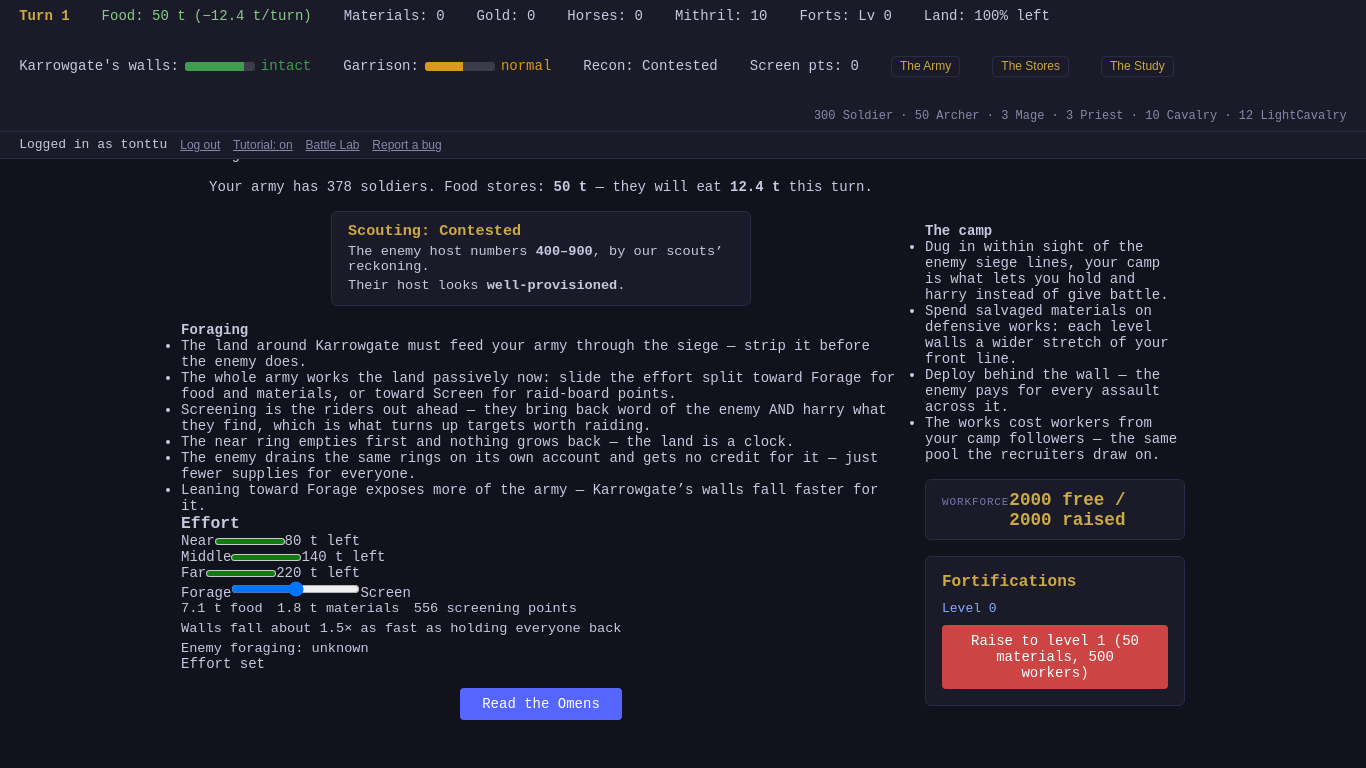
Test: reaching the screen (13-7) › opens from a later phase too, and returns to THAT phase
The width and height of the screenshot is (1366, 768).
(page scrolled)
Click the button with test id "to-omens" at (541, 704), box [460, 688, 622, 720]
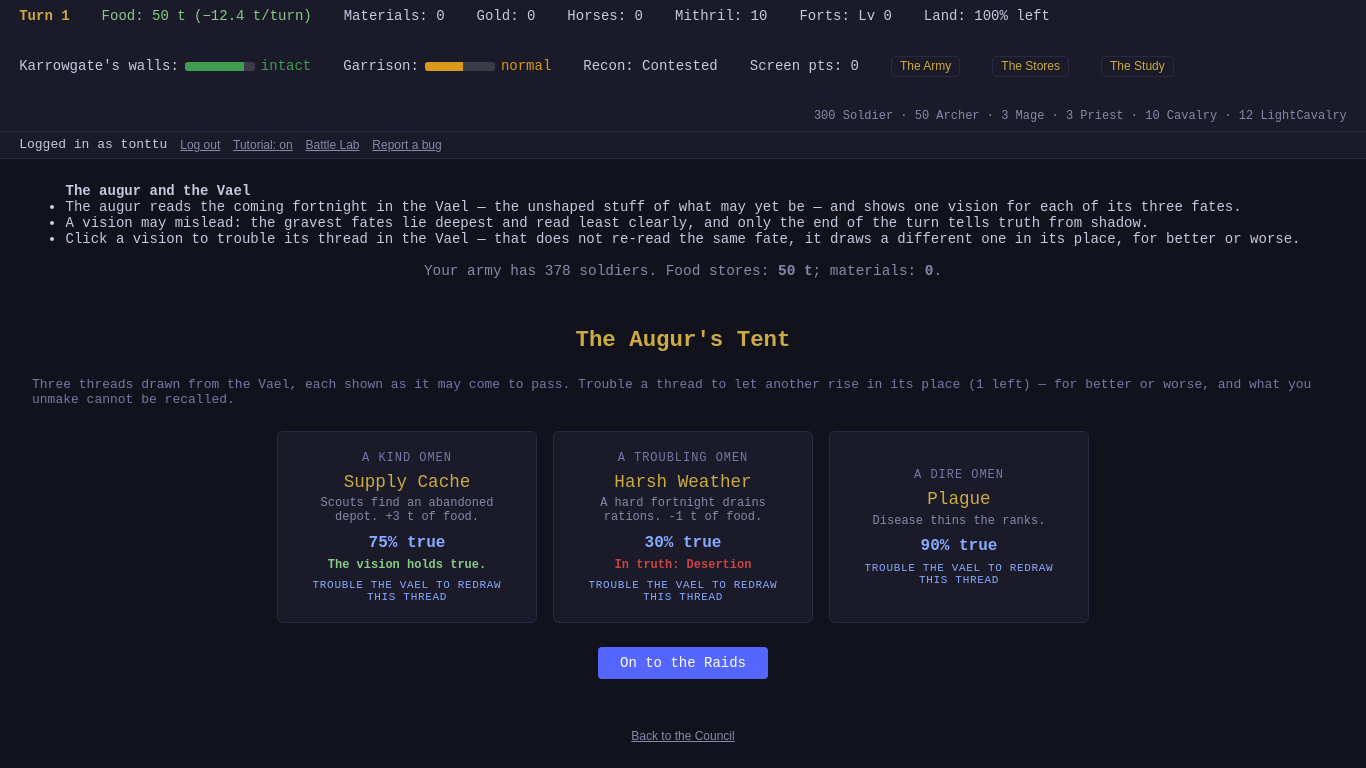
Click the button with test id "augury-continue" at (683, 663), box [598, 647, 768, 679]
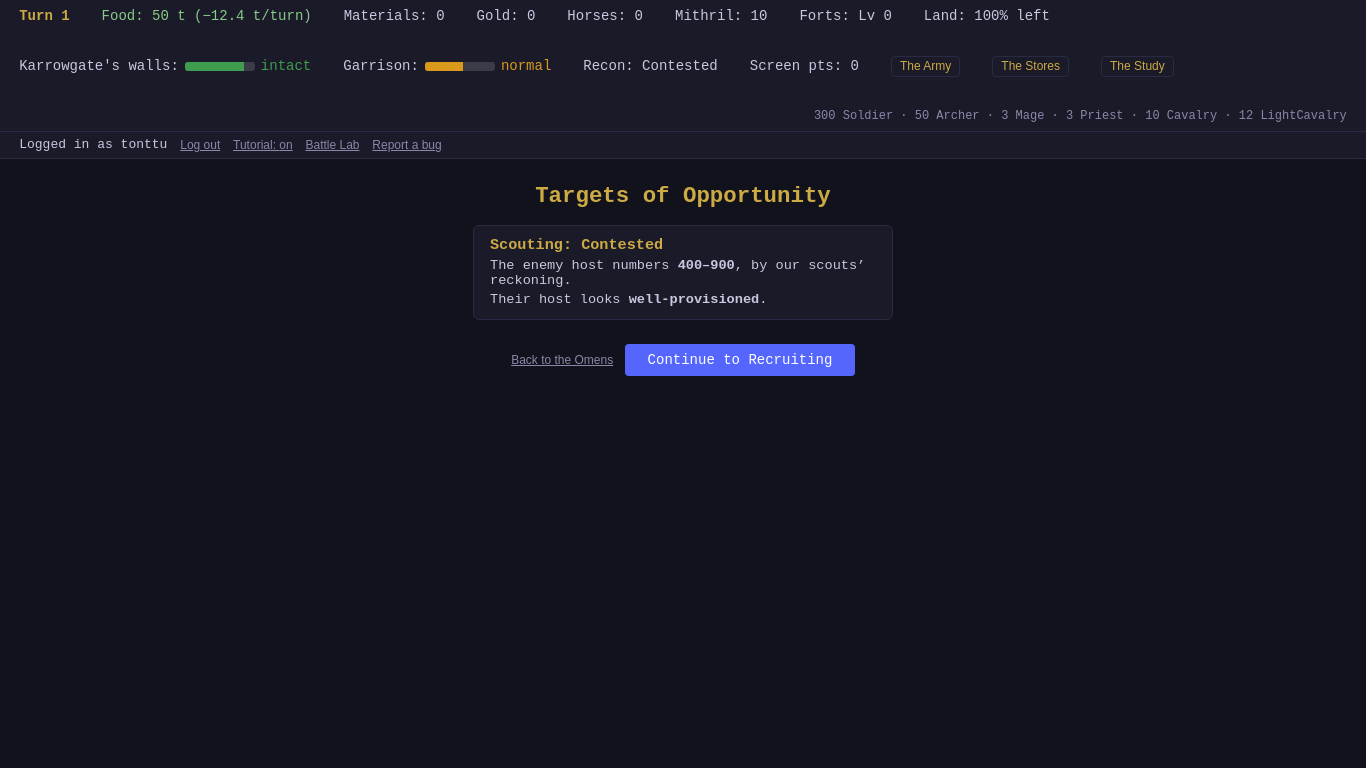
expect the heading "Targets of Opportunity" is shown: met, box [535, 183, 831, 209]
Click the button with test id "hud-army" at (926, 66), box [891, 56, 960, 77]
(page scrolled)
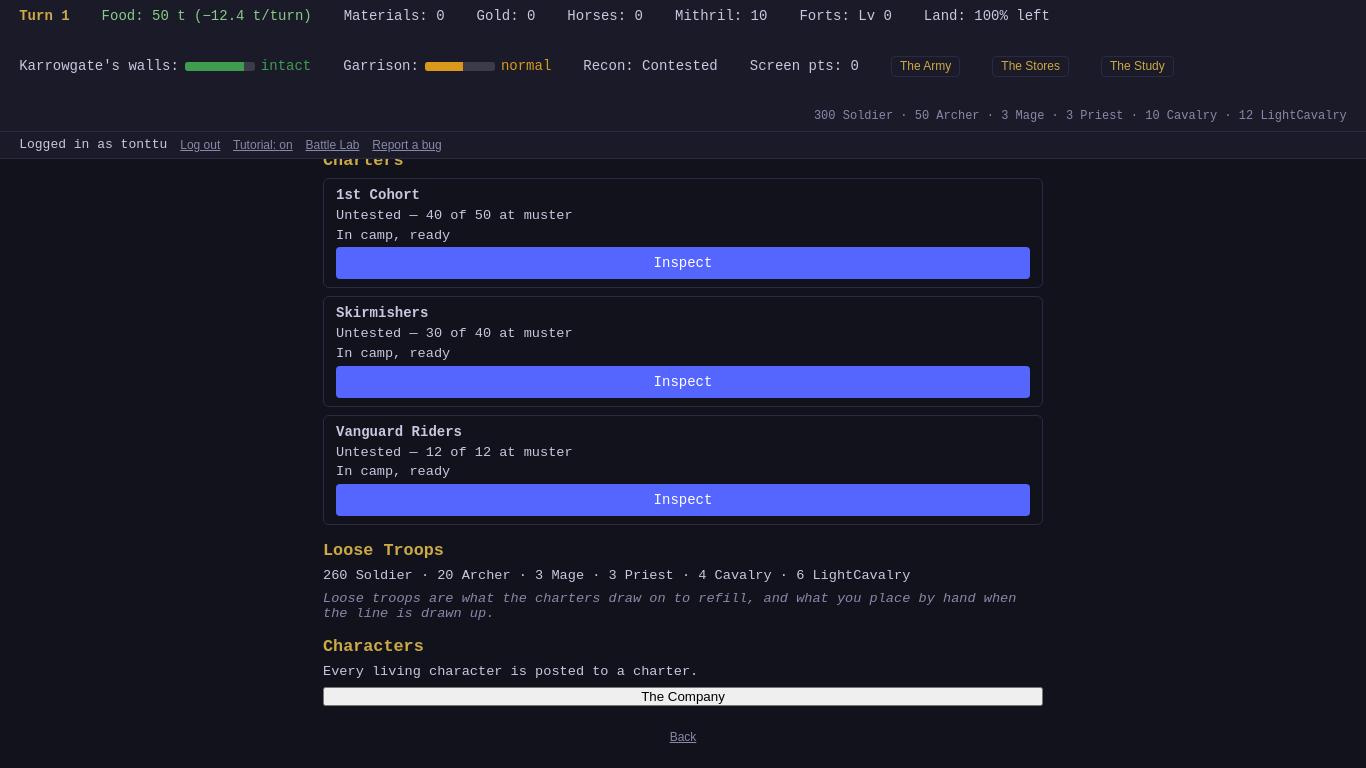
expect the element with test id "squad-roll" is shown: met, box [323, 159, 1043, 706]
Click the button with test id "squad-screen-back" at (683, 737), box [670, 730, 696, 744]
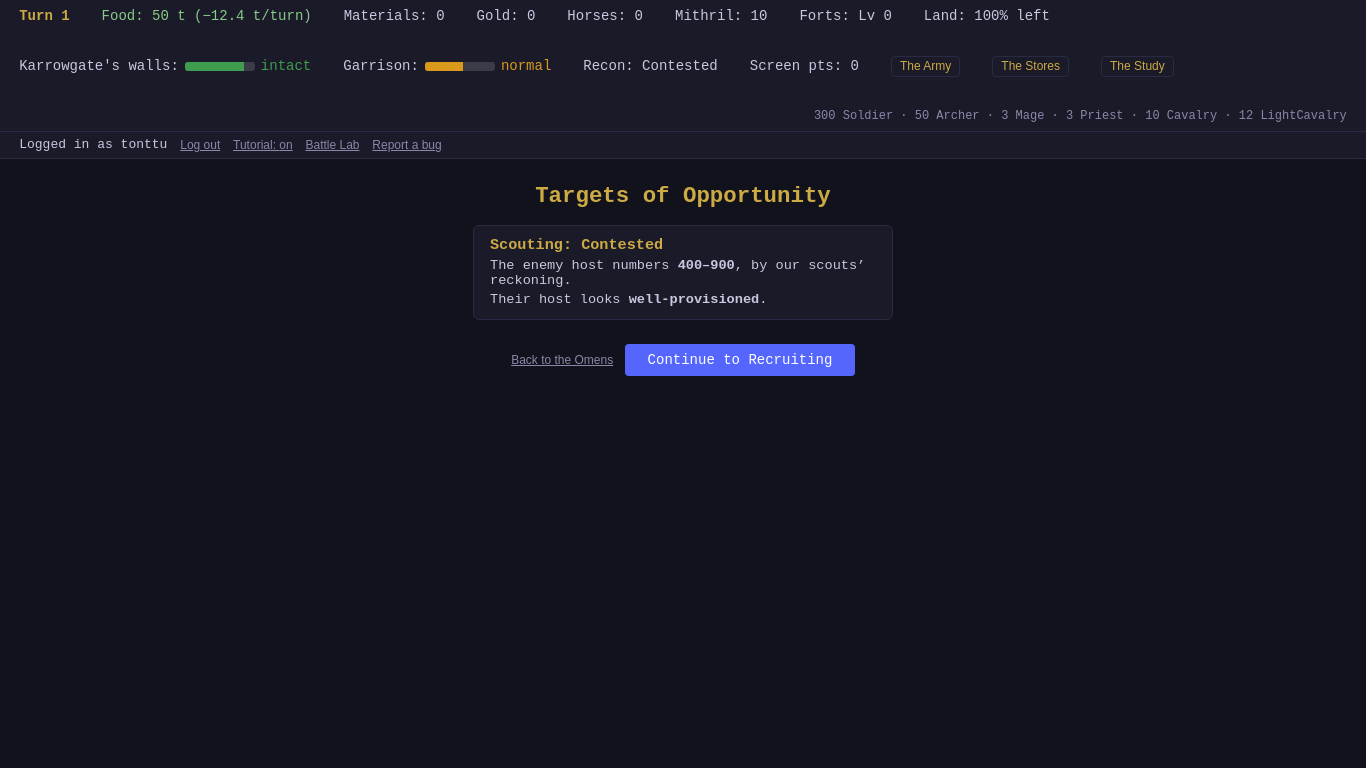
expect the heading "Targets of Opportunity" is shown: met, box [535, 183, 831, 209]
